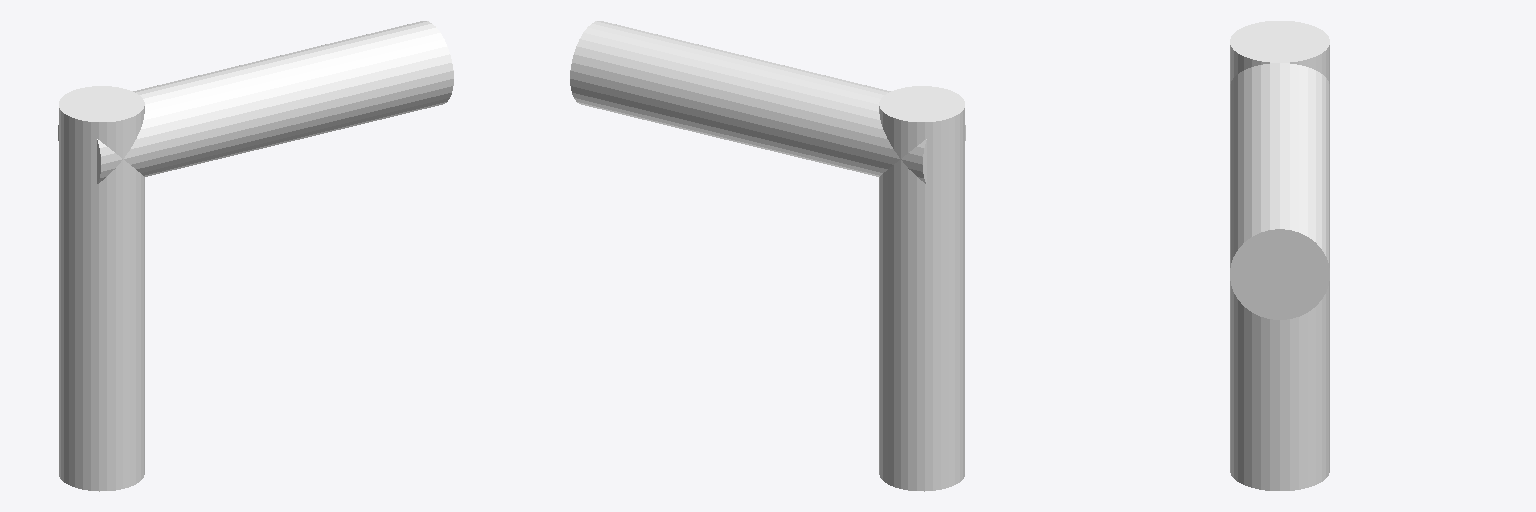
The robot description file, URDF, robot "wheelchair":
<?xml version="1.0" ?>
<robot name="wheelchair">

    <material name="white">
        <color rgba="1 1 1 1"/>
    </material>

    <link name="root">
        <inertial>
            <mass value="0"/>
            <origin rpy="0 0 0" xyz="0 0 0"/>
            <inertia ixx="0.01" ixy="0.0" ixz="0.0" iyy="0.01" iyz="0.0" izz="0.01"/>
        </inertial>
        <visual>
            <origin rpy="0 0 0" xyz="0 0 0"/>
            <geometry>
                <mesh filename="wheelchair_permobil_reduced_compressed.obj" scale="0.15 0.15 0.15"/>
            </geometry>
            <material name="white"/>
        </visual>
        <collision>
            <origin rpy="0 0 0" xyz="0 0 0"/>
            <geometry>
                <mesh filename="wheelchair_permobil_reduced_compressed_vhacd.obj" scale="0.15 0.15 0.15"/>
            </geometry>
        </collision>
    </link>

    <link name="wheelchair_link">
        <inertial>
            <mass value="0.001"/>
            <origin rpy="0 0 0" xyz="0 0 0"/>
            <inertia ixx="0.0001" ixy="0" ixz="0" iyy="0.000001" iyz="0" izz="0.0001"/>
        </inertial>
        <visual>
            <origin rpy="0 0 0" xyz="-0.35 0.3 -0.15"/>
            <geometry>
                <!--<box size="0.085 0.085 0.4"/>-->
                <cylinder radius="0.0425" length="0.4"/>
            </geometry>
            <material name="white"/>
        </visual>
        <collision>
            <origin rpy="0 0 0" xyz="-0.35 0.3 -0.15"/>
            <geometry>
                <!--<box size="0.085 0.085 0.4"/>-->
                <cylinder radius="0.0425" length="0.4"/>
            </geometry>
        </collision>
    </link>
    <joint name="wheelchair_joint" type="fixed">
        <parent link="root"/>
        <child link="wheelchair_link"/>
        <origin xyz="0 0 0"/>
    </joint>

    <link name="wheelchair_link2">
        <inertial>
            <mass value="0.001"/>
            <origin rpy="0 0 0" xyz="0 0 0"/>
            <inertia ixx="0.0001" ixy="0" ixz="0" iyy="0.000001" iyz="0" izz="0.0001"/>
        </inertial>
        <visual>
            <!--<origin rpy="0 0 0" xyz="0.175 0.3 0.0075"/>-->
            <origin rpy="0 1.57079632679 0" xyz="-0.175 0.3 0.0075"/>
            <geometry>
                <!--<box size="0.4 0.085 0.085"/>-->
                <cylinder radius="0.0425" length="0.4"/>
            </geometry>
            <material name="white"/>
        </visual>
        <collision>
            <!--<origin rpy="0 0 0" xyz="0.175 0.3 0.0075"/>-->
            <origin rpy="0 1.57079632679 0" xyz="-0.175 0.3 0.0075"/>
            <geometry>
                <!--<box size="0.4 0.085 0.085"/>-->
                <cylinder radius="0.0425" length="0.4"/>
            </geometry>
        </collision>
    </link>
    <joint name="wheelchair_joint2" type="fixed">
        <parent link="root"/>
        <child link="wheelchair_link2"/>
        <origin xyz="0 0 0"/>
    </joint>
</robot>

--- Facts derived from the render (not from the file) ---
3 views of the same robot in one strip: view 1: azimuth 30°, elevation 25°; view 2: azimuth 150°, elevation 25°; view 3: azimuth 270°, elevation 25° (orthographic).
Model wheelchair with 3 links and 2 joints (2 fixed), rooted at root, posed every joint at zero.
Visible links, largest first — view 1: wheelchair_link, wheelchair_link2; view 2: wheelchair_link, wheelchair_link2; view 3: wheelchair_link2, wheelchair_link.
Link boxes in pixels (x1,y1,x2,y2): wheelchair_link: (59, 86, 144, 491); wheelchair_link2: (58, 21, 453, 183); wheelchair_link: (879, 86, 964, 491); wheelchair_link2: (570, 21, 965, 183); wheelchair_link2: (1230, 63, 1329, 319); wheelchair_link: (1230, 21, 1329, 490).
Bounding box of the posed robot: 0.4175 × 0.085 × 0.4 m (x, y, z).
0 mesh visuals loaded from 1 distinct referenced files (none loaded); not drawn: 1 (reference not matched to a file when rendering).